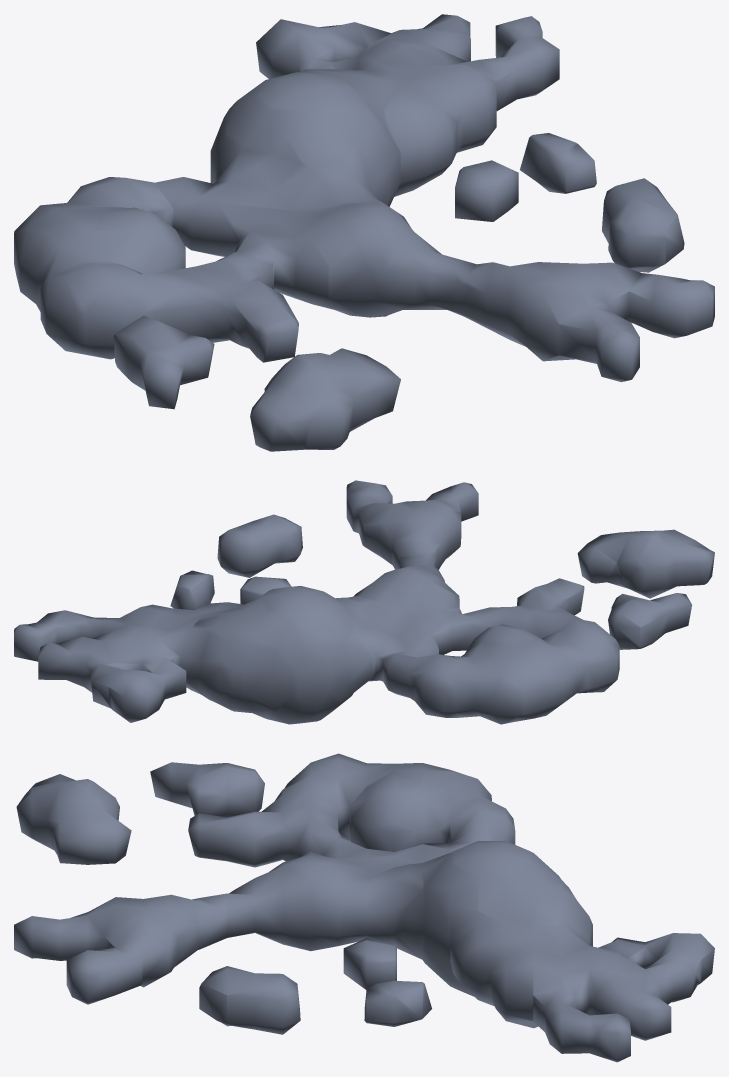
The model's file is Cloud_3.dae.
3 renders of one model, top to bottom at view 1: azimuth 30°, elevation 25°; view 2: azimuth 150°, elevation 25°; view 3: azimuth 270°, elevation 25°, orthographic. The views are drawn at different scales.
Parts seen in each view (by area): view 1: Mball.067; view 2: Mball.067; view 3: Mball.067.
Part boxes in pixels (box(x1,y1,x2,y2)): Mball.067: box(14, 14, 714, 451); Mball.067: box(14, 480, 714, 724); Mball.067: box(14, 753, 714, 1062).
Size of the model in its own units: 15.14 by 16.55 by 3.67.
